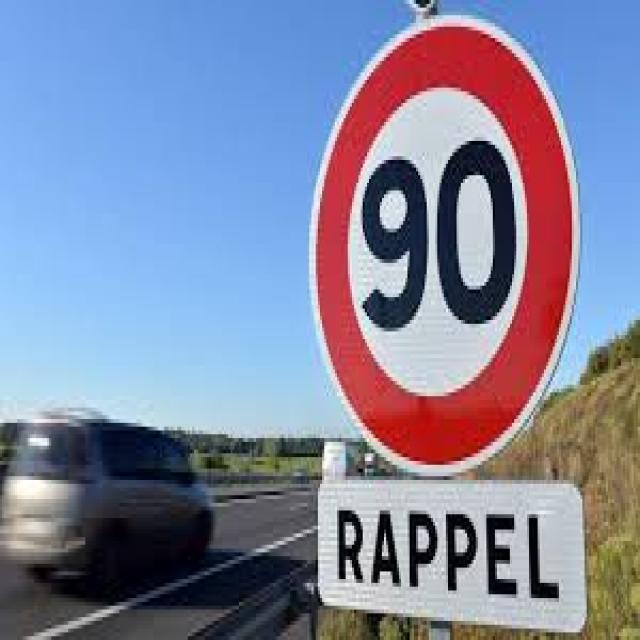speed_90: (311, 9, 582, 478)
